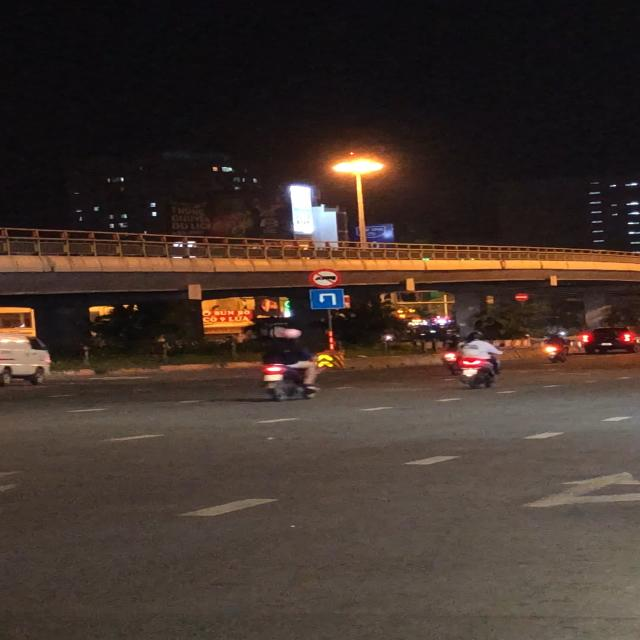Bien bao cam xe so-mi ro-mooc: (308, 268, 343, 289)
